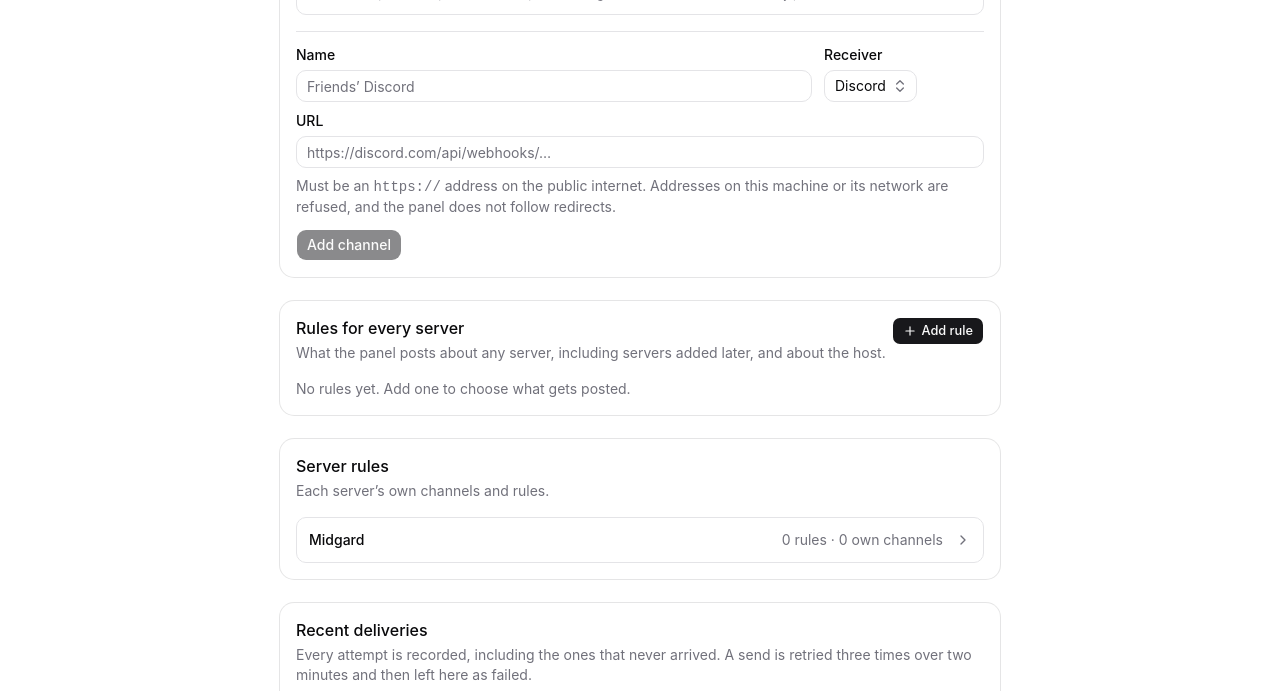
Test case: the rules for every server › will not add a rule that posts nowhere
(page scrolled)
Click the button "Add rule" at (938, 331), box [892,317,984,345]
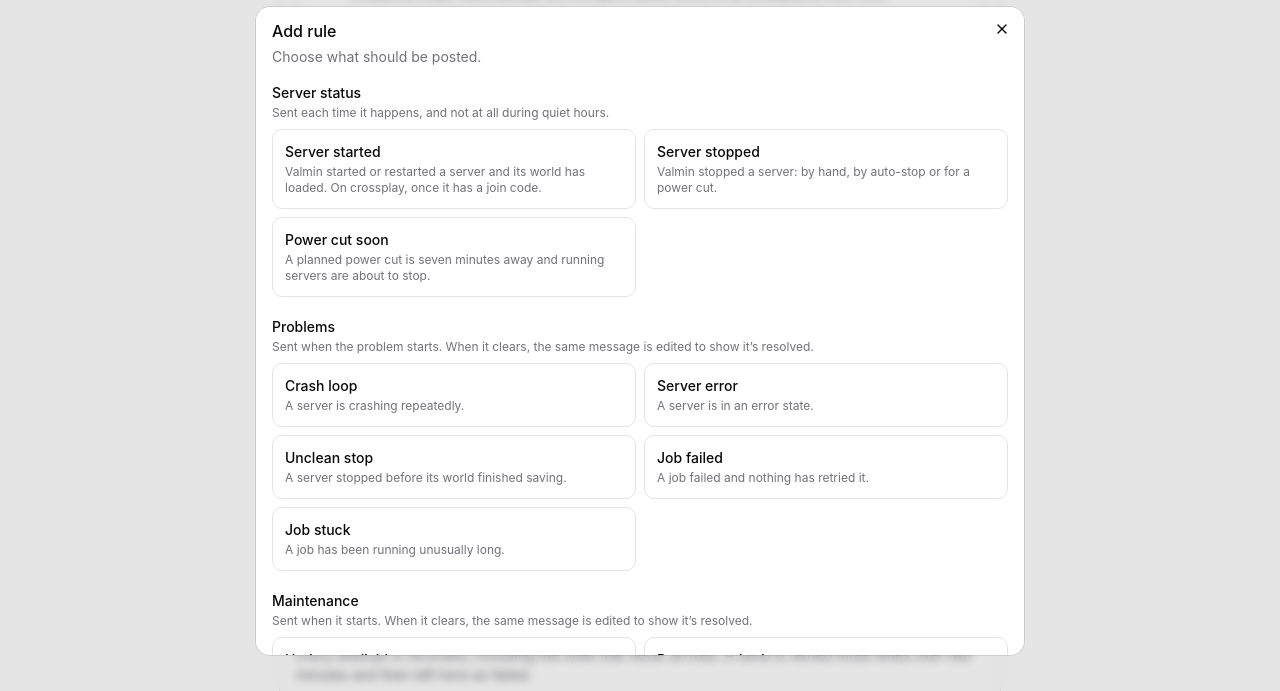
Click the button with test id "pick-server_started" at (454, 169), box [272,129,636,209]
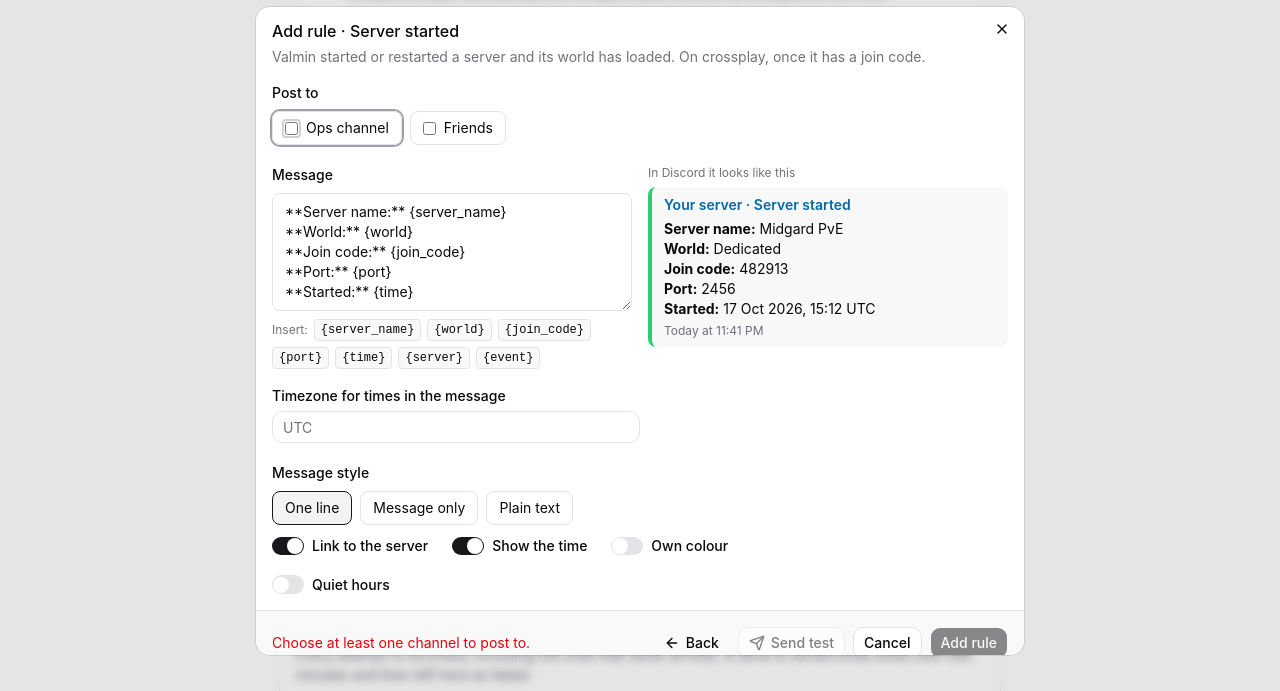
Check: the dialog shows "Choose at least one channel to post to.", box [272,634,530,651]
Check: the button "Add rule" is disabled, box [930,627,1008,655]
